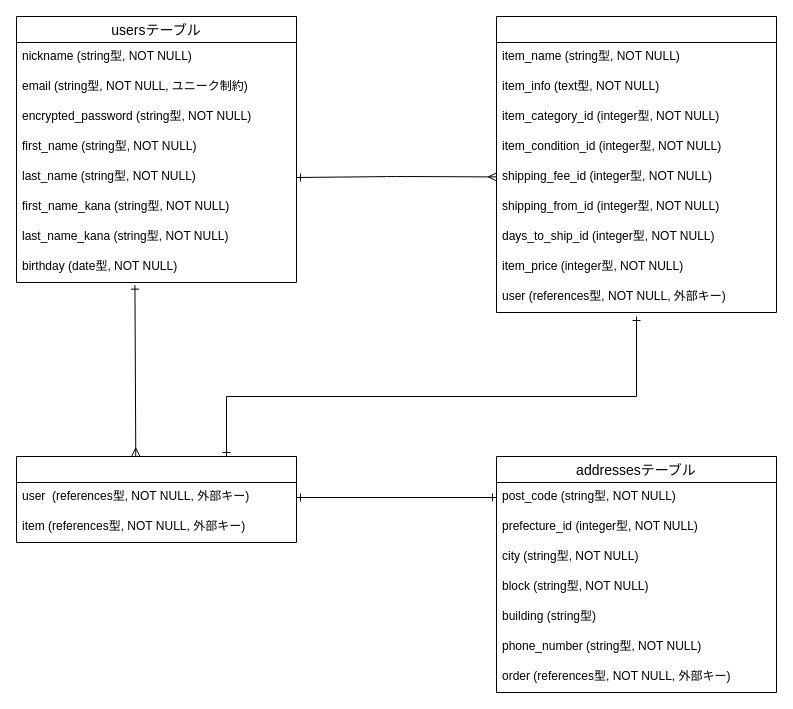
Image size: 793x709. Some labels were removed from this diagram. The shapes that lost their labels are listed below. From the top down, each one's box as (x1, y1, x2, y2) in pixels, then its label:
(496, 16, 776, 312): itemsテーブル
(16, 456, 296, 542): ordersテーブル
